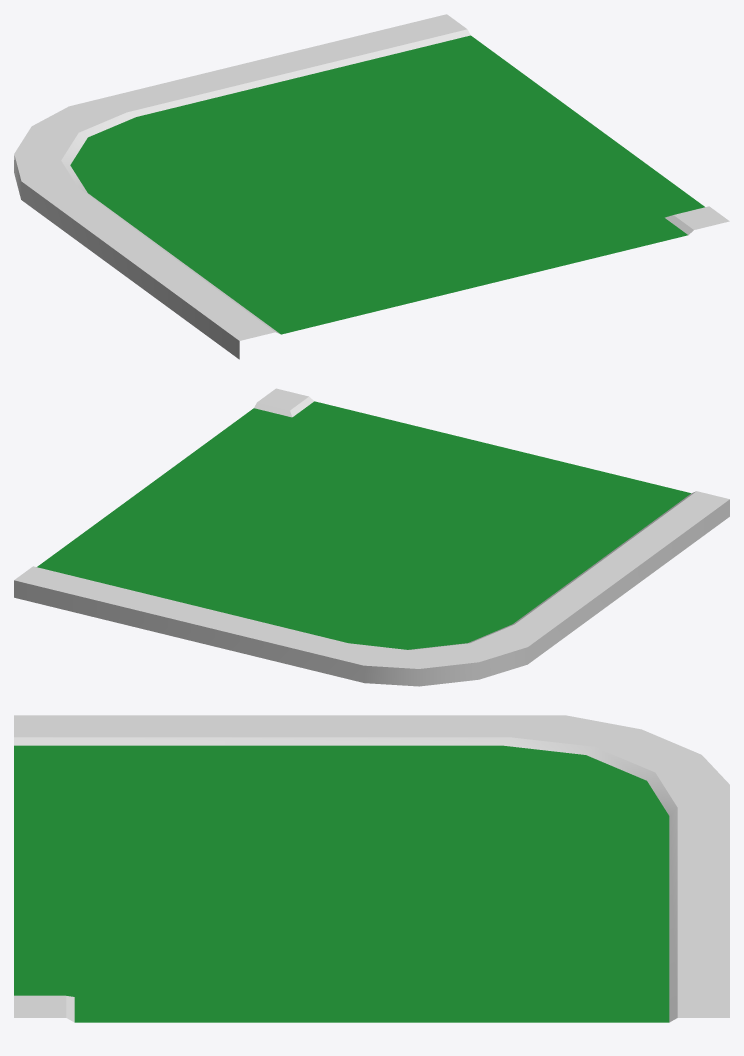
File: GrassBed_1_A_10.fbx
The picture shows the model from 3 angles, top to bottom: view 1: azimuth 30°, elevation 25°; view 2: azimuth 150°, elevation 25°; view 3: azimuth 270°, elevation 25°; orthographic projection. The views are drawn at different scales.
Visible parts, largest first — view 1: GrassBed_1_A_10; view 2: GrassBed_1_A_10; view 3: GrassBed_1_A_10.
Part boxes in pixels (x1=…): GrassBed_1_A_10: x1=14, y1=14, x2=729, y2=359; GrassBed_1_A_10: x1=14, y1=388, x2=729, y2=686; GrassBed_1_A_10: x1=14, y1=715, x2=729, y2=1022.
Size of the model in its own units: 200 by 7.32 by 200.
